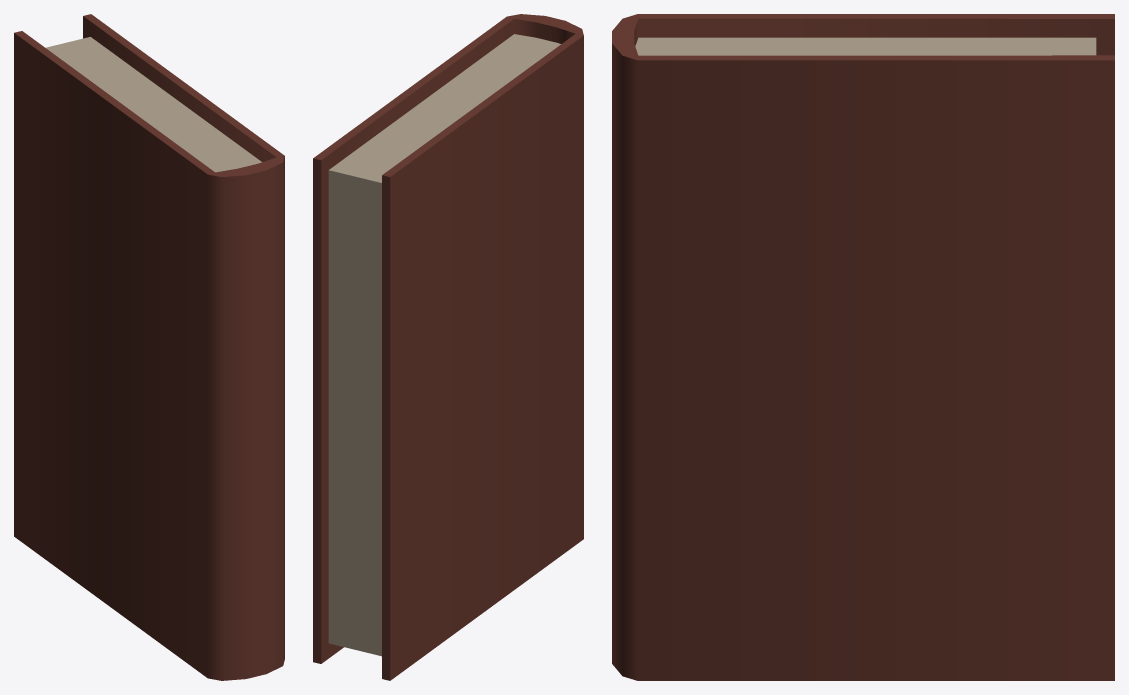
The model's file is S_Book.001.fbx.
3 renders of one model, left to right at view 1: azimuth 30°, elevation 25°; view 2: azimuth 150°, elevation 25°; view 3: azimuth 270°, elevation 25°, orthographic. The views are drawn at different scales.
Parts seen in each view (by area): view 1: S_Book.001; view 2: S_Book.001; view 3: S_Book.001.
Boxes of the visible parts, <box> form: S_Book.001: <box>14,14,284,680</box>; S_Book.001: <box>313,14,583,680</box>; S_Book.001: <box>612,14,1114,680</box>.
Bounding box in the file's own units: 5.4 × 33.74 × 24.77.
